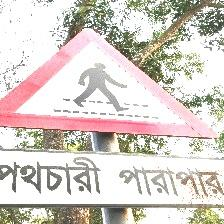Pedestrian-crossing: (1, 28, 222, 205)
